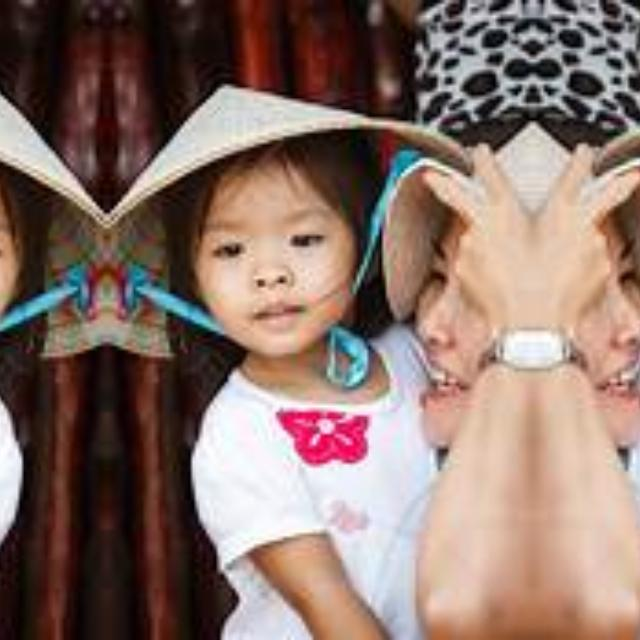person: (152, 102, 424, 640), (407, 168, 533, 640), (533, 168, 640, 639), (0, 102, 60, 640)
